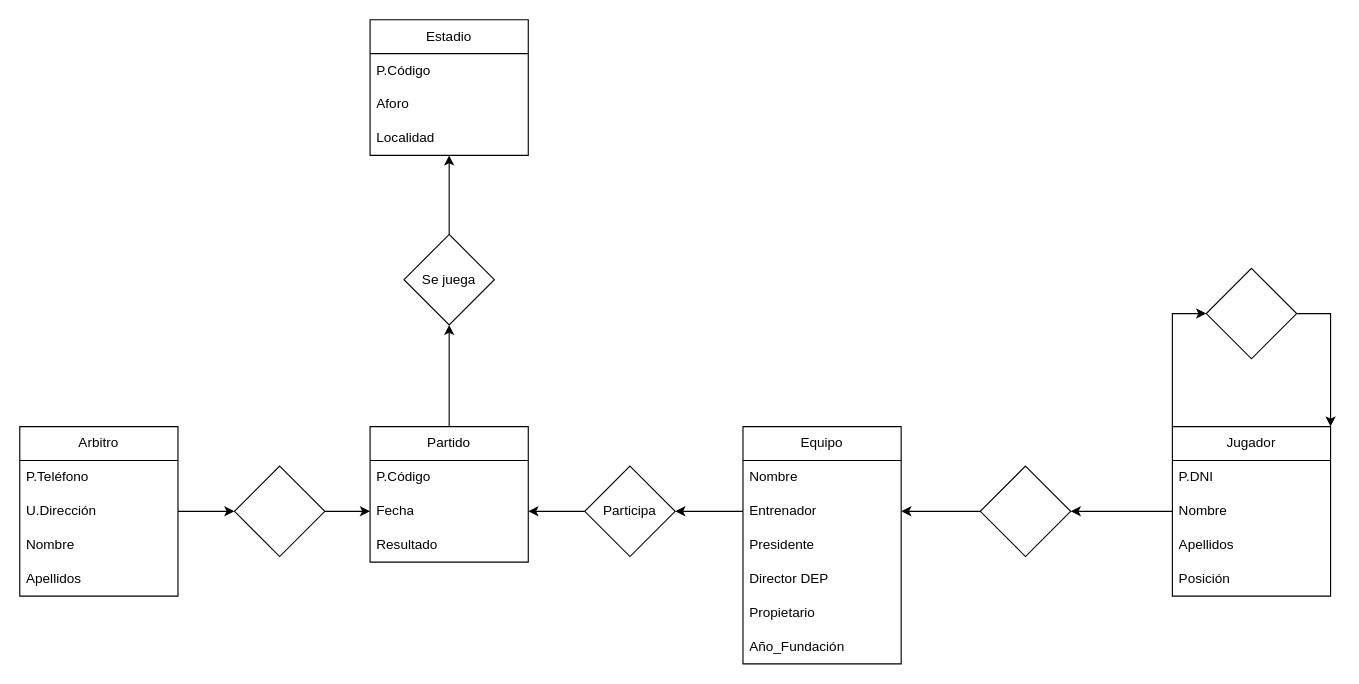
The diagram is 1359 pixels wide and 684 high, and some of its shapes have lost their labels. The centre of each missing label's shape, as x and y in pixels:
"Arbitra" goes at point 279,511.
"Es capitán" goes at point 1251,313.
"Pertenece" goes at point 1025,511.
